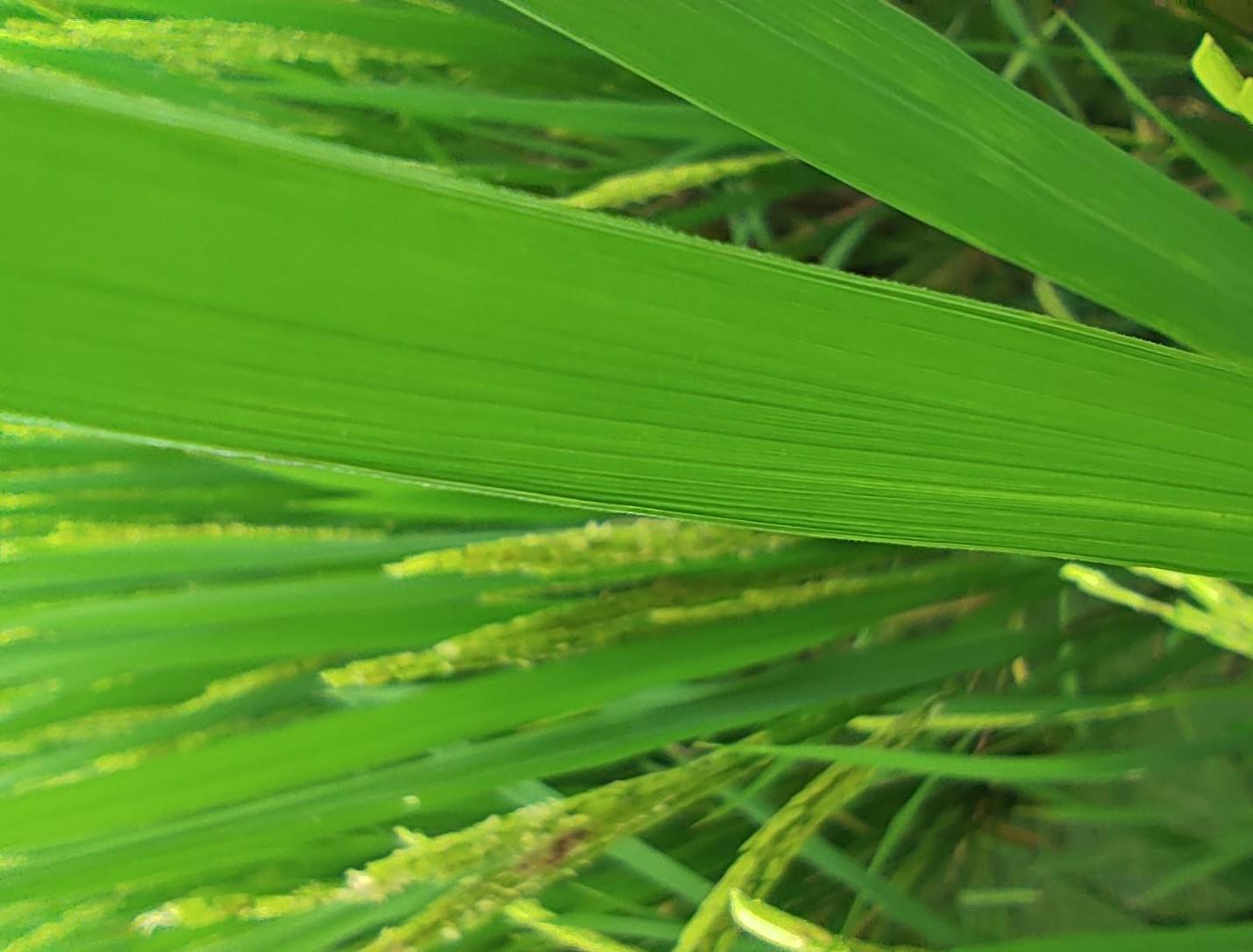Healthy: (0, 74, 1252, 579)
